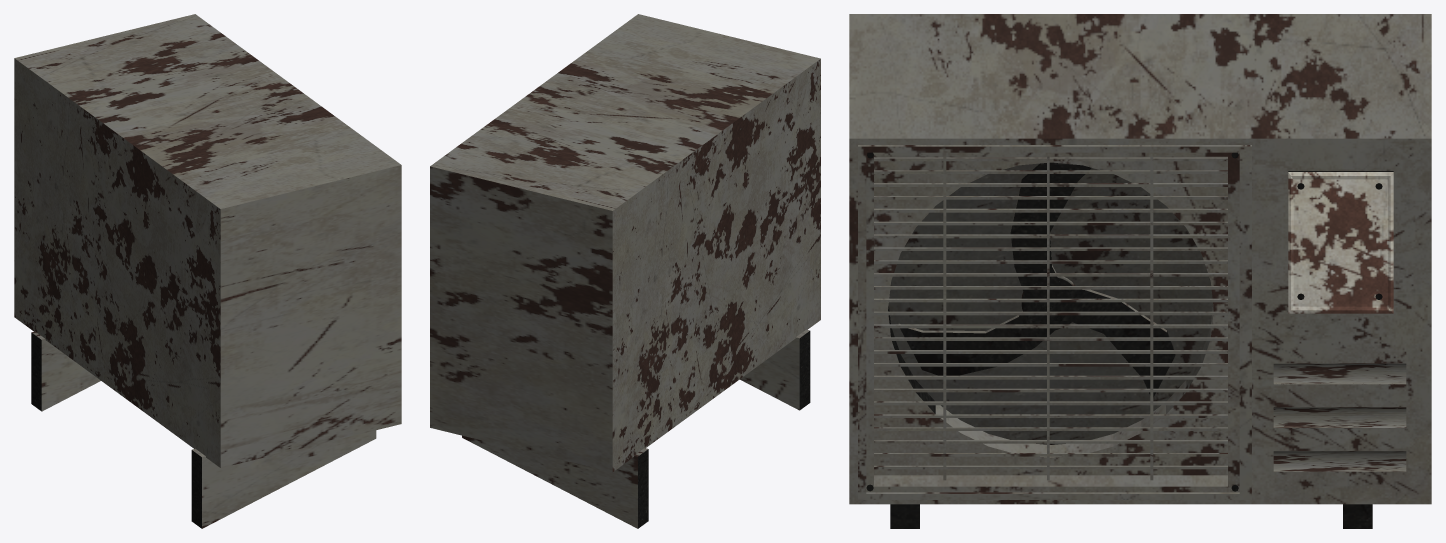
The model's file is Aircon.fbx.
3 views of the same model, side by side, from view 1: azimuth 30°, elevation 25°; view 2: azimuth 150°, elevation 25°; view 3: azimuth 270°, elevation 25° (orthographic). The views are drawn at different scales.
Parts seen in each view (by area): view 1: Aircon; view 2: Aircon; view 3: Aircon.
Part boxes in pixels (box(x1,y1,x2,y2)): Aircon: box(14, 14, 401, 528); Aircon: box(430, 14, 820, 528); Aircon: box(849, 14, 1431, 528).
Size of the model in its own units: 86.02 by 144 by 164.
Materials: 1 (1 with a texture image).
